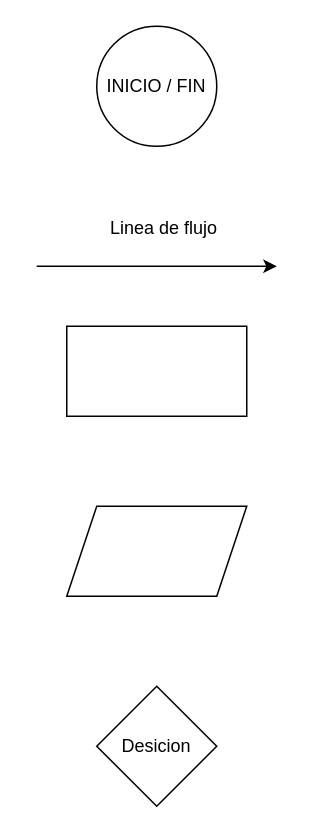
The diagram is 315 pixels wide and 833 high, and some of its shapes have lost their labels. Each missing label, with the centre of its shape:
"Entradas y Salidas" goes at point (156, 550).
"Proceso" goes at point (156, 370).
